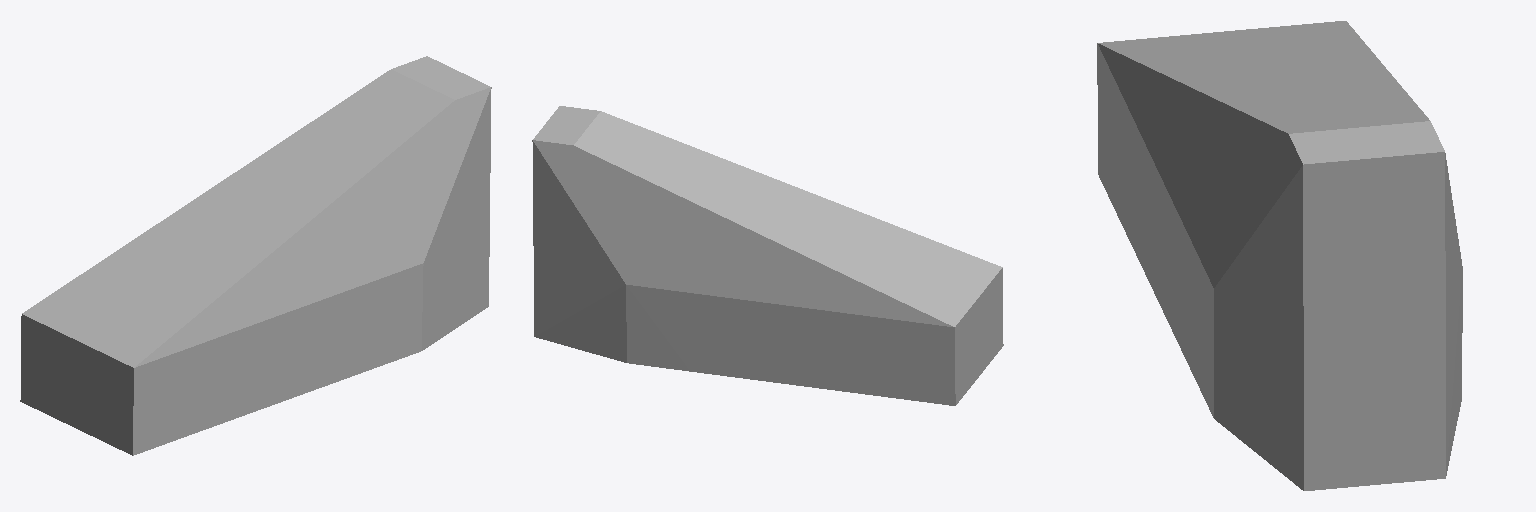
The robot description file, URDF, robot "root":
<robot name="root">
  <link name="link_thingiverse~box_with_angle_bracket_388084_convex_piece_0">
    <inertial>
      <origin rpy="0 0 0" xyz="0 0 0"/>
      <mass value="2.78E-01"/>
      <inertia ixx="1.99E-04" ixy="9.39E-05" ixz="9.23E-05" iyy="6.40E-04" iyz="1.87E-05" izz="5.87E-04"/>
    </inertial>
    <visual>
      <origin rpy="0 0 0" xyz="0 0 0"/>
      <geometry>
        <mesh filename="thingiverse~box_with_angle_bracket_388084_convex_piece_0.obj" scale="1.0000E+00 1.0000E+00 1.0000E+00"/>
      </geometry>
      <material name="">
        <color rgba="7.50E-01 7.50E-01 7.50E-01 1"/>
      </material>
    </visual>
    <collision>
      <origin rpy="0 0 0" xyz="0 0 0"/>
      <geometry>
        <mesh filename="thingiverse~box_with_angle_bracket_388084_convex_piece_0.obj" scale="1.0000E+00 1.0000E+00 1.0000E+00"/>
      </geometry>
    </collision>
  </link>
</robot>

--- What the picture shows (computed from the rendered views, not written in the file) ---
3 views of the same robot in one strip: view 1: azimuth 30°, elevation 25°; view 2: azimuth 150°, elevation 25°; view 3: azimuth 270°, elevation 25° (orthographic).
Model root with 1 links and 0 joints (none), rooted at link_thingiverse~box_with_angle_bracket_388084_convex_piece_0, posed every joint at zero.
Links seen in each view (by area): view 1: link_thingiverse~box_with_angle_bracket_388084_convex_piece_0; view 2: link_thingiverse~box_with_angle_bracket_388084_convex_piece_0; view 3: link_thingiverse~box_with_angle_bracket_388084_convex_piece_0.
Boxes of the visible links, x1,y1,x2,y2 form: link_thingiverse~box_with_angle_bracket_388084_convex_piece_0: (20,56,491,455); link_thingiverse~box_with_angle_bracket_388084_convex_piece_0: (532,106,1003,405); link_thingiverse~box_with_angle_bracket_388084_convex_piece_0: (1097,21,1462,490).
Bounding box of the posed robot: 0.1634 × 0.0755 × 0.0753 m (x, y, z).
Meshes: 1 distinct files referenced, 1 mesh visuals loaded (1 OBJ).
